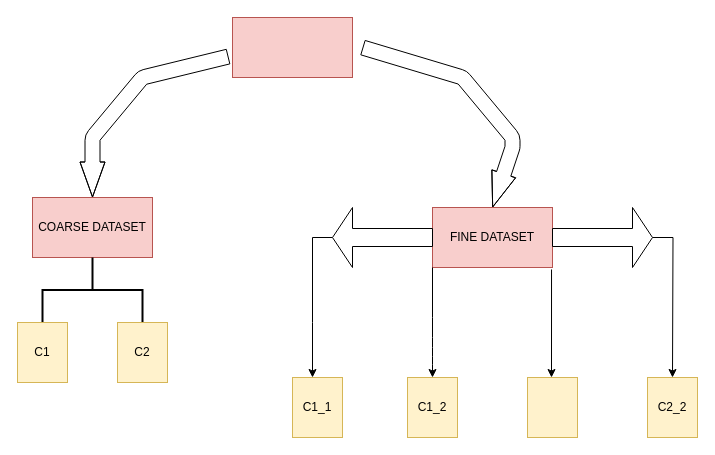
This 715x455 diagram has some shape labels left out. The centre of each missing label's shape, as x and y in pixels:
"C2_1" goes at point 552,407.
"DATASET FOLDER" goes at point 292,47.
